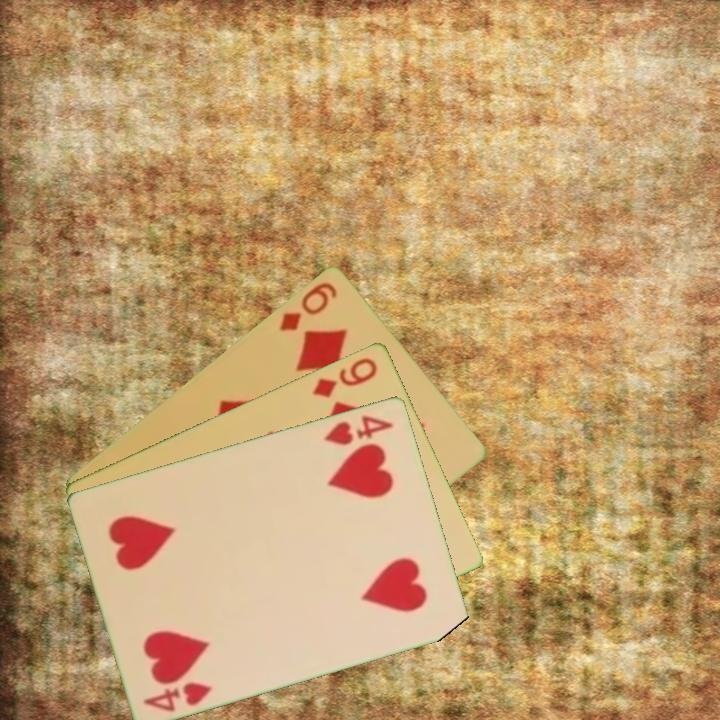4h: (320, 411, 397, 448), (140, 678, 216, 715)
6d: (275, 278, 340, 334)
9d: (309, 353, 381, 400)
